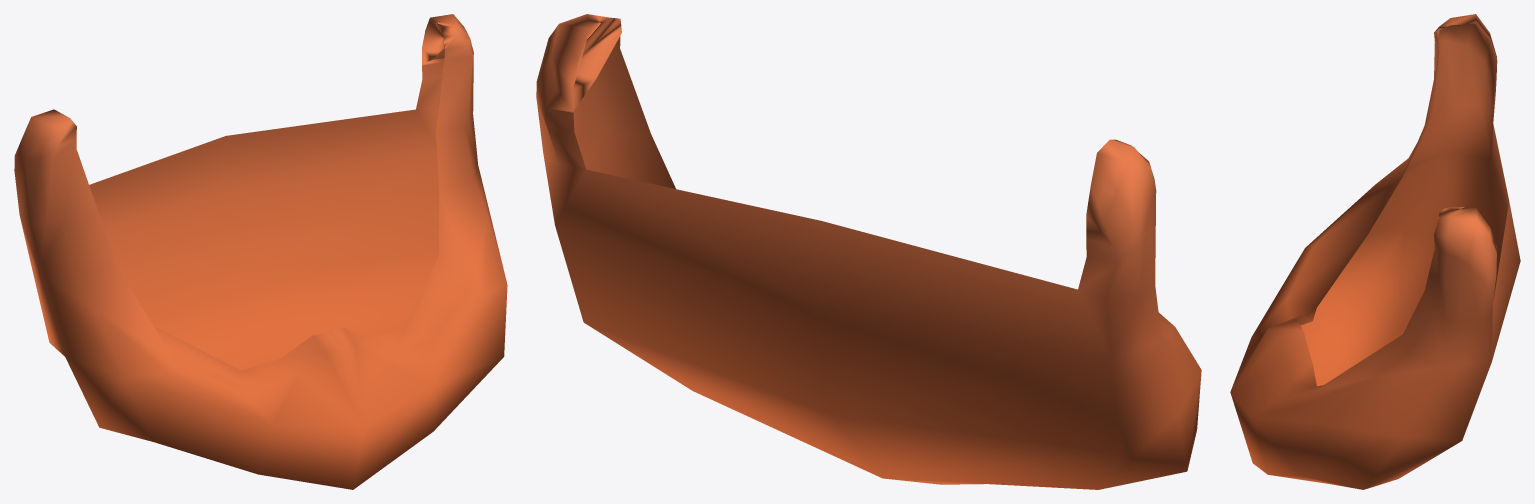
File: Mustache_20.fbx
3 views of the same model, side by side, from view 1: azimuth 30°, elevation 25°; view 2: azimuth 150°, elevation 25°; view 3: azimuth 270°, elevation 25° (orthographic). The views are drawn at different scales.
Parts seen in each view (by area): view 1: Mustache_20; view 2: Mustache_20; view 3: Mustache_20.
Boxes of the visible parts, box(x1,y1,x2,y2) form: Mustache_20: box(14, 14, 507, 489); Mustache_20: box(536, 14, 1201, 489); Mustache_20: box(1230, 14, 1520, 489).
Bounding box in the file's own units: 52.51 × 38.74 × 29.34.
